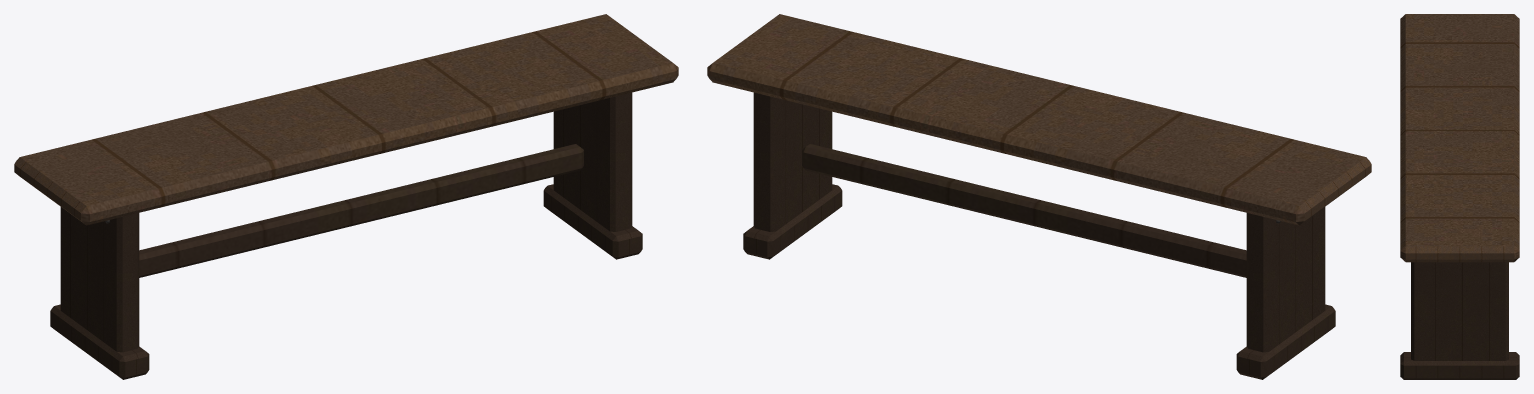
The model's file is bench.glb.
3 views of the same model, side by side, from view 1: azimuth 30°, elevation 25°; view 2: azimuth 150°, elevation 25°; view 3: azimuth 270°, elevation 25° (orthographic). The views are drawn at different scales.
Parts seen in each view (by area): view 1: bench; view 2: bench; view 3: bench.
Boxes of the visible parts, <box> form: bench: <box>14,14,678,379</box>; bench: <box>707,14,1371,379</box>; bench: <box>1400,14,1519,379</box>.
Bounding box in the file's own units: 1.6 × 0.465 × 0.34.
Materials: 1 (1 with a texture image).
